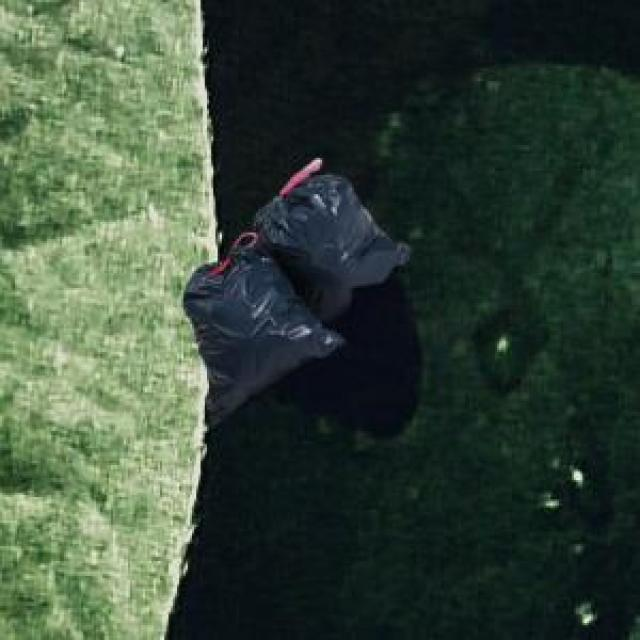Vinyl: (184, 160, 409, 424)
